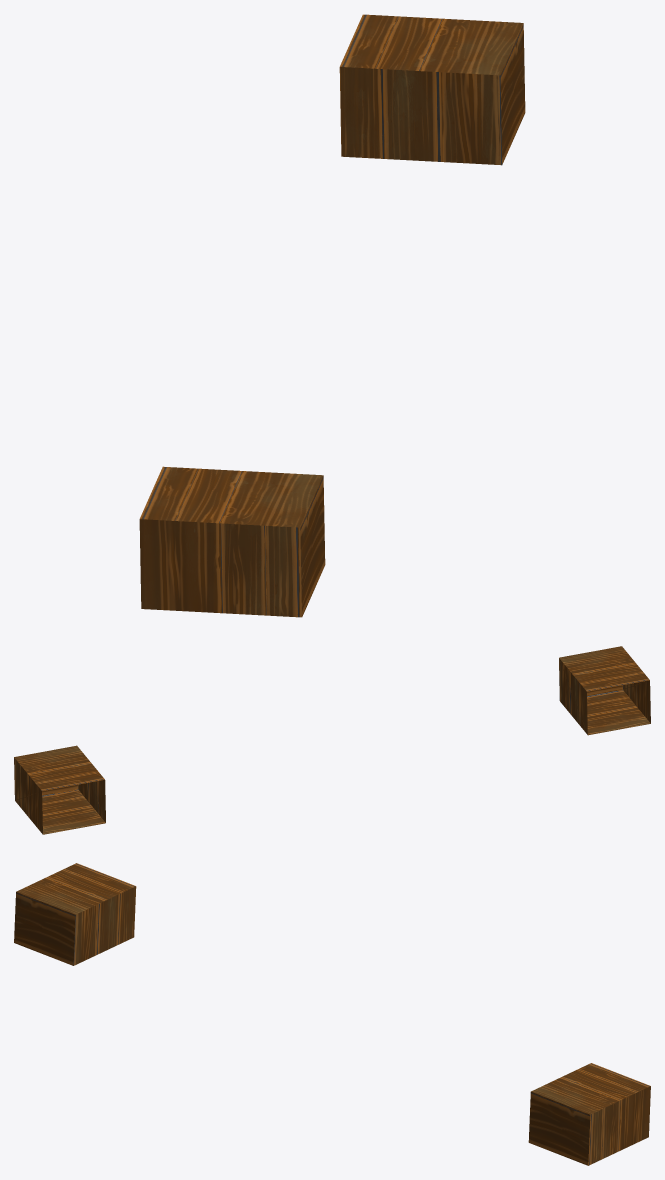
The picture shows the model from 3 angles, top to bottom: view 1: azimuth 30°, elevation 25°; view 2: azimuth 150°, elevation 25°; view 3: azimuth 270°, elevation 25°; orthographic projection. The views are drawn at different scales.
Visible parts, largest first — view 1: Cube.2043; view 2: Cube.2043; view 3: Cube.2043.
Boxes of the visible parts, box(x1,y1,x2,y2) form: Cube.2043: box(139, 14, 525, 617); Cube.2043: box(14, 646, 650, 834); Cube.2043: box(14, 863, 650, 1165).
Bounding box in the file's own units: 491 × 71.44 × 565.
1 material, 1 textured.
